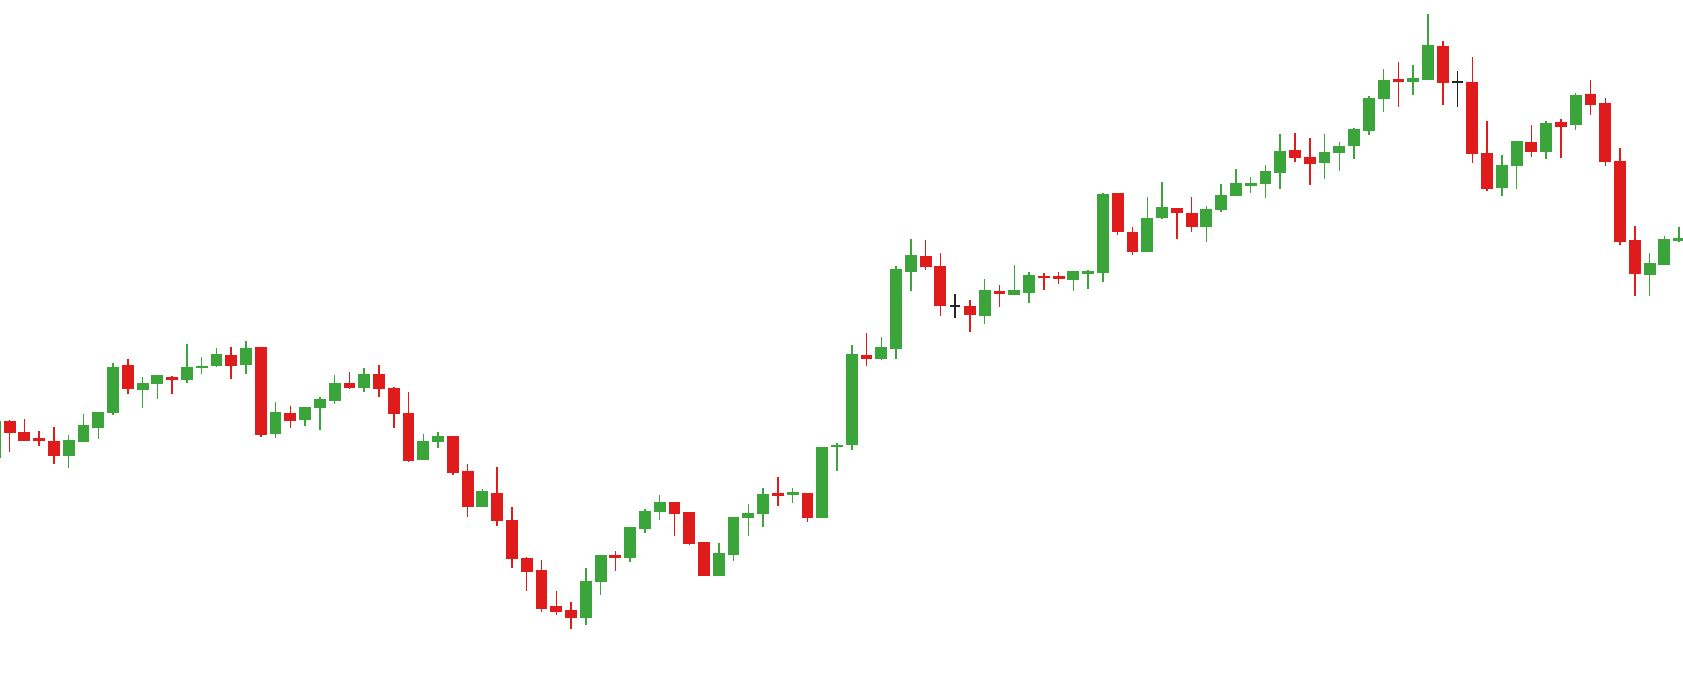buy: (610, 526, 725, 581)
